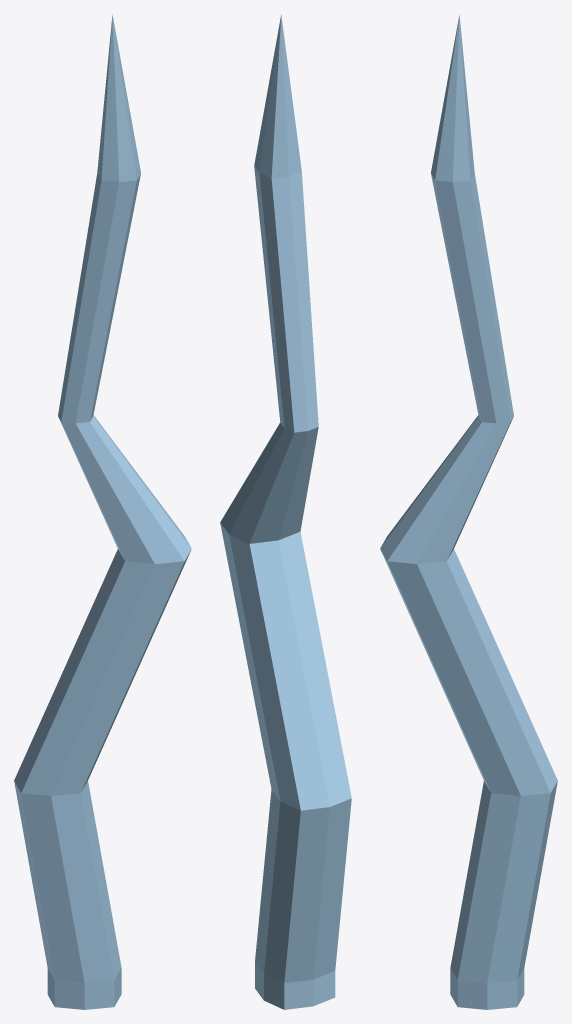
Rendered from IcePepperStage2.fbx.
3 renders of one model, left to right at view 1: azimuth 90°, elevation 25°; view 2: azimuth 210°, elevation 25°; view 3: azimuth 270°, elevation 25°, orthographic.
Parts seen in each view (by area): view 1: Cube.006; view 2: Cube.006; view 3: Cube.006.
Boxes of the visible parts, bbox=[...] form: Cube.006: bbox=[14, 14, 191, 1009]; Cube.006: bbox=[220, 15, 351, 1009]; Cube.006: bbox=[380, 14, 557, 1009].
Bounding box in the file's own units: 13.91 × 206 × 33.93.
